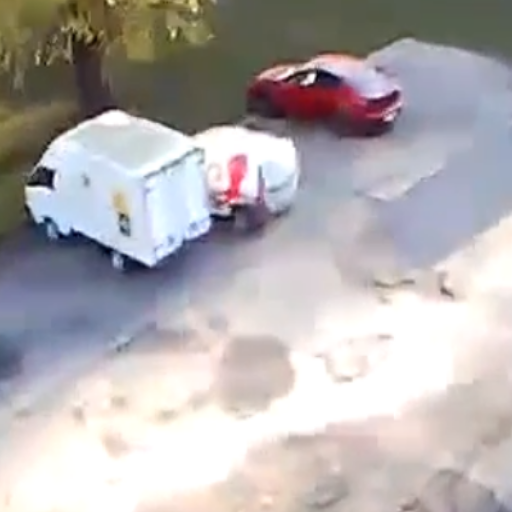Car: (21, 108, 209, 270), (247, 48, 402, 132), (178, 124, 299, 224)
